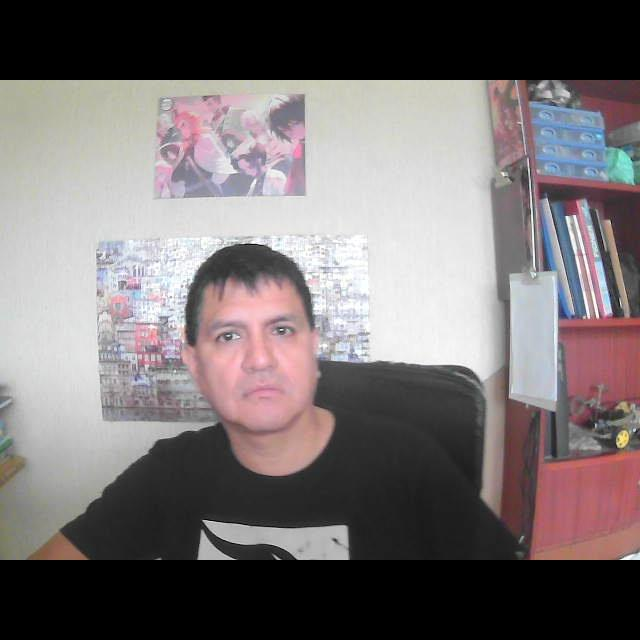cesar: (170, 232, 344, 488)
